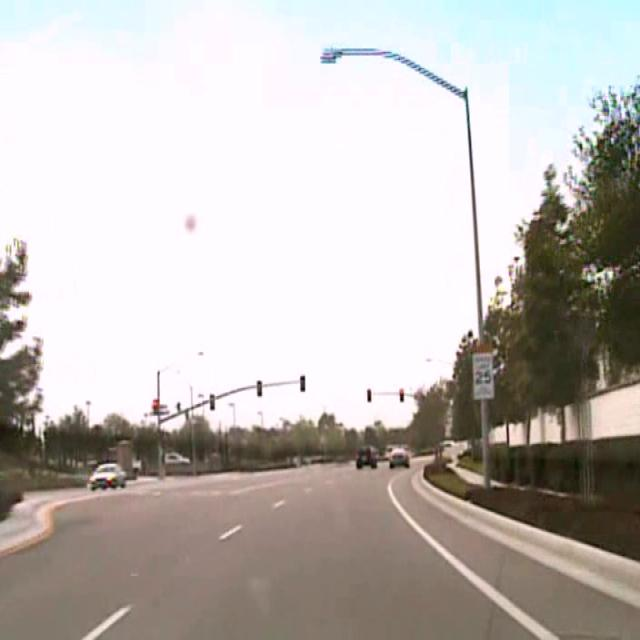speedLimit25: (471, 338, 494, 398)
